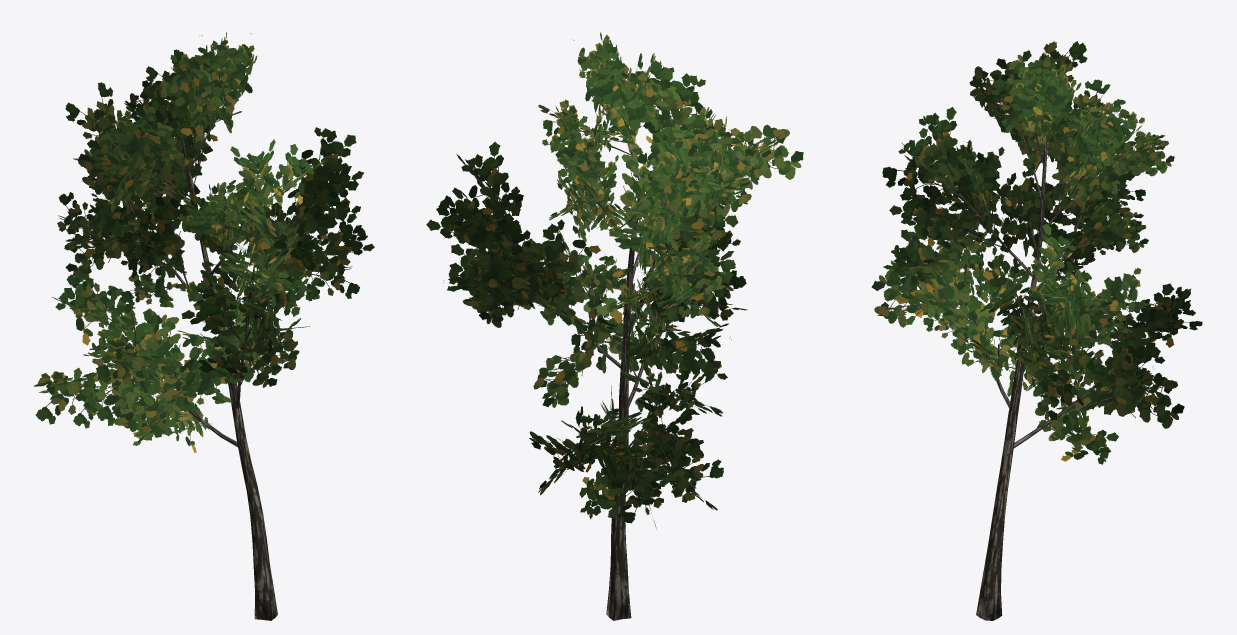
Rendered from tree-young.glb.
3 renders of one model, left to right at view 1: azimuth 30°, elevation 25°; view 2: azimuth 150°, elevation 25°; view 3: azimuth 270°, elevation 25°, orthographic. The views are drawn at different scales.
Parts seen in each view (by area): view 1: foliage, tree-young; view 2: foliage, tree-young; view 3: foliage, tree-young.
Part boxes in pixels (x1=…): foliage: x1=33, y1=32, x2=374, y2=452; tree-young: x1=108, y1=102, x2=314, y2=620; foliage: x1=426, y1=32, x2=803, y2=528; tree-young: x1=509, y1=110, x2=700, y2=620; foliage: x1=871, y1=41, x2=1202, y2=464; tree-young: x1=938, y1=115, x2=1127, y2=620.
Size of the model in its own units: 3.37 by 5.56 by 3.31.
Materials: 2 (2 with a texture image).
